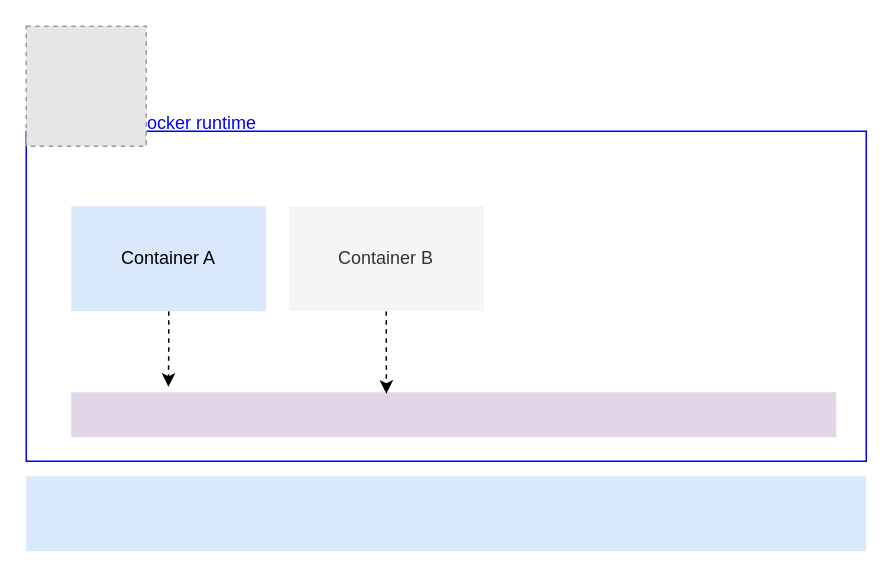
This 893x578 diagram has some shape labels left out. Grey dashed boxes stand in for pictures. The shapes that lost their labels are listed below. From the top down, each one's box as (x1, y1, x2, y2) in pixels, then its label:
(70, 392, 836, 436): /app/workshop/index.html
(26, 476, 866, 550): Host
